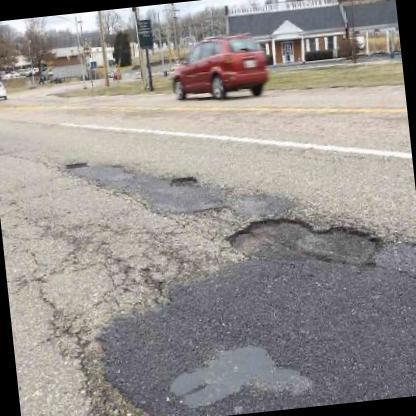pothole: (221, 211, 385, 271), (54, 335, 151, 416)
